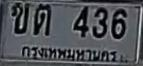3: (92, 6, 107, 37)
4: (73, 5, 88, 36)
6: (111, 8, 126, 38)
A02: (11, 2, 30, 33)
A21: (33, 4, 50, 34)
BKK: (15, 42, 121, 65)
